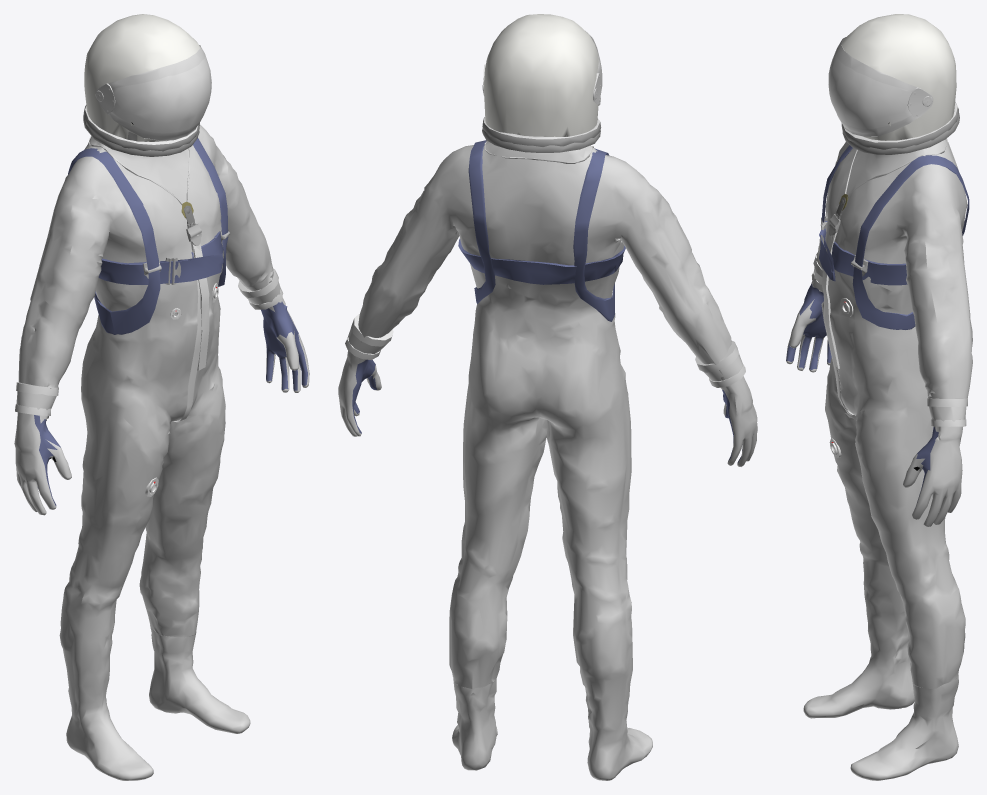
File: mercury_suit_lod1.glb
3 renders of one model, left to right at view 1: azimuth 30°, elevation 25°; view 2: azimuth 150°, elevation 25°; view 3: azimuth 270°, elevation 25°, orthographic. The views are drawn at different scales.
Visible parts, largest first — view 1: mercury_suit_lod1; view 2: mercury_suit_lod1; view 3: mercury_suit_lod1.
Boxes of the visible parts, x1,y1,x2,y2 form: mercury_suit_lod1: [14, 14, 309, 780]; mercury_suit_lod1: [338, 14, 757, 780]; mercury_suit_lod1: [786, 14, 972, 780].
Bounding box in the file's own units: 0.9952 × 2 × 0.472.
